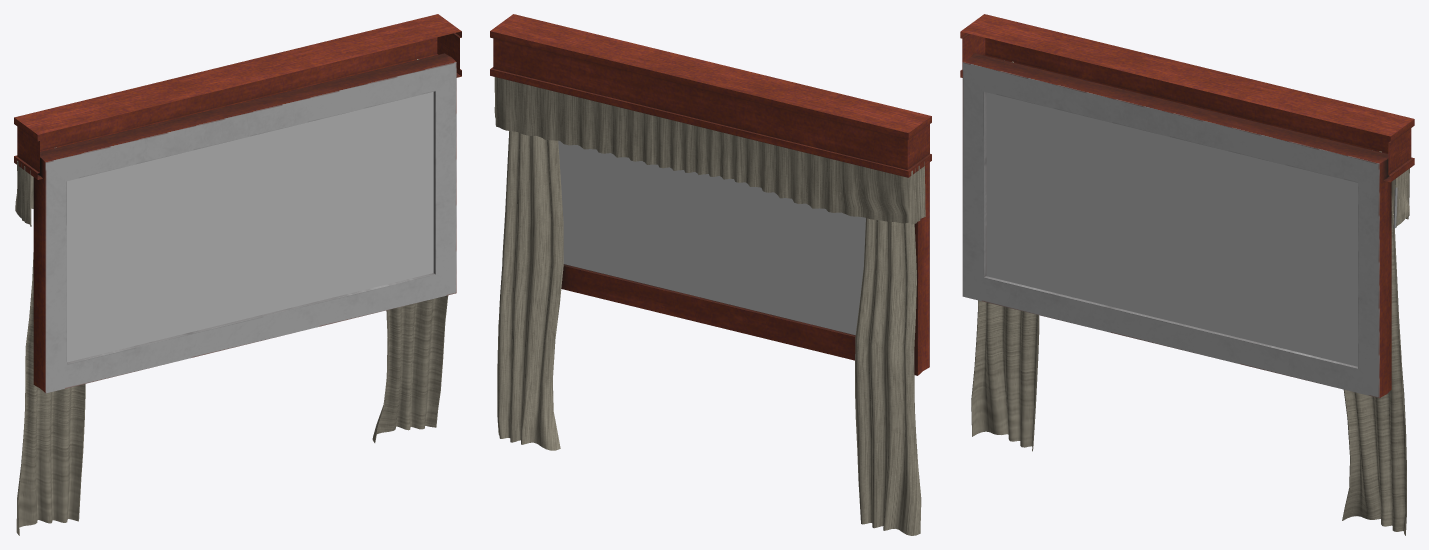
Rendered from SM_Bath_Window.fbx.
The picture shows the model from 3 angles, left to right: view 1: azimuth 30°, elevation 25°; view 2: azimuth 150°, elevation 25°; view 3: azimuth 330°, elevation 25°; orthographic projection. The views are drawn at different scales.
Visible parts, largest first — view 1: SM_Bath_Window; view 2: SM_Bath_Window; view 3: SM_Bath_Window.
Boxes of the visible parts, x1=… form: SM_Bath_Window: x1=14, y1=14, x2=461, y2=535; SM_Bath_Window: x1=490, y1=14, x2=931, y2=535; SM_Bath_Window: x1=960, y1=14, x2=1414, y2=535.
Size of the model in its own units: 156 by 19.76 by 143.
Materials: 2 (1 with a texture image).
